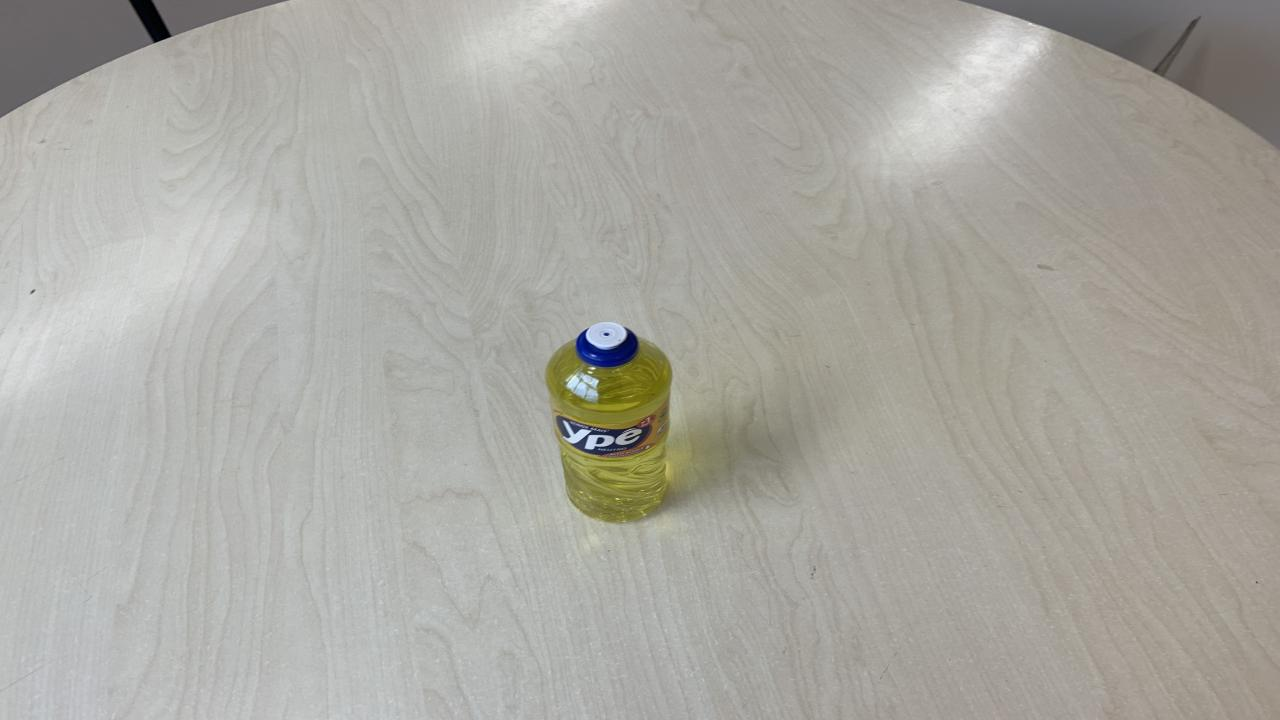Detergent-Cleanup_Items: (543, 323, 676, 526)
